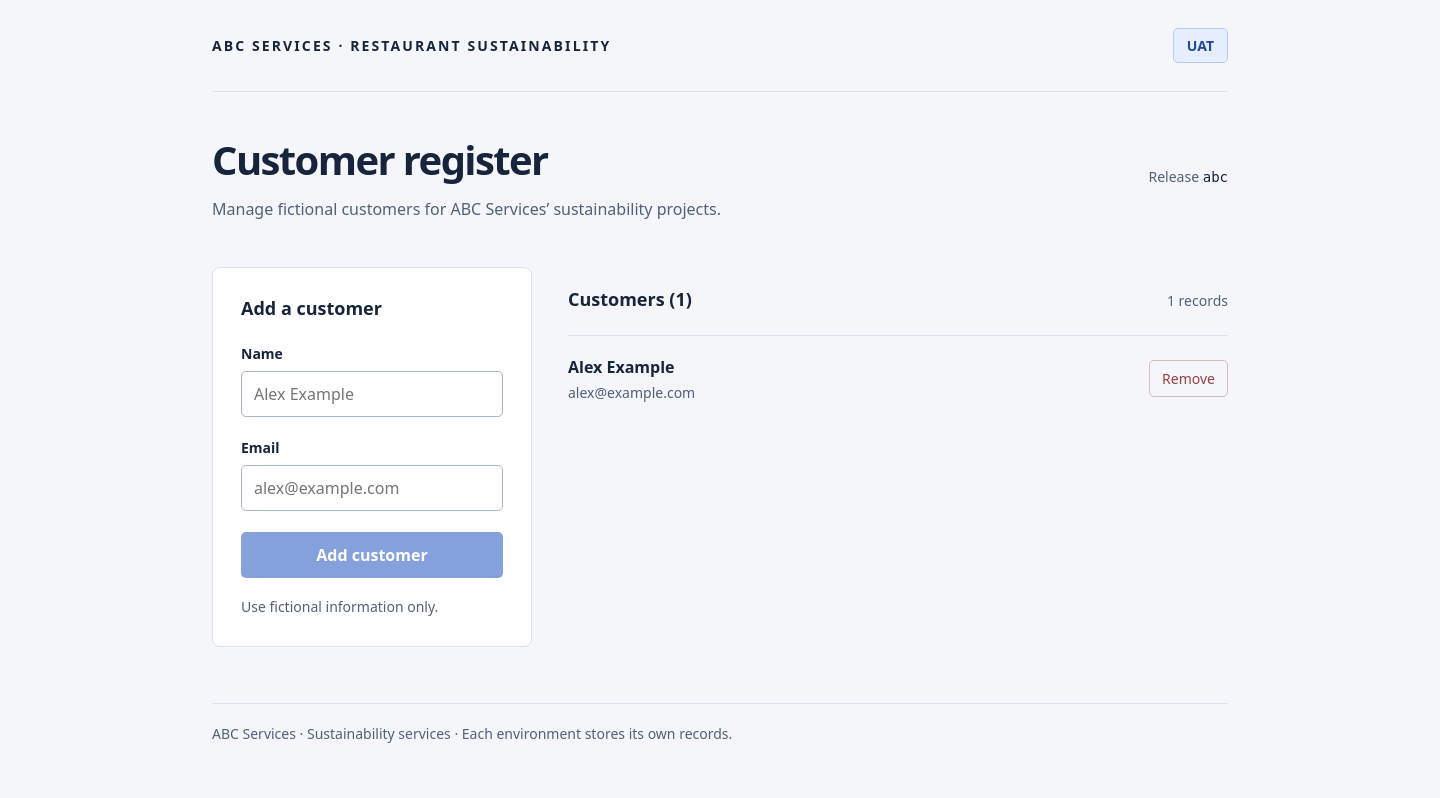
Test: keeps a record visible when deletion fails
This screenshot has width=1440, height=798.
Click the button with aria-label "Remove Alex Example" at point(1189, 379), box [1149,360,1228,397]
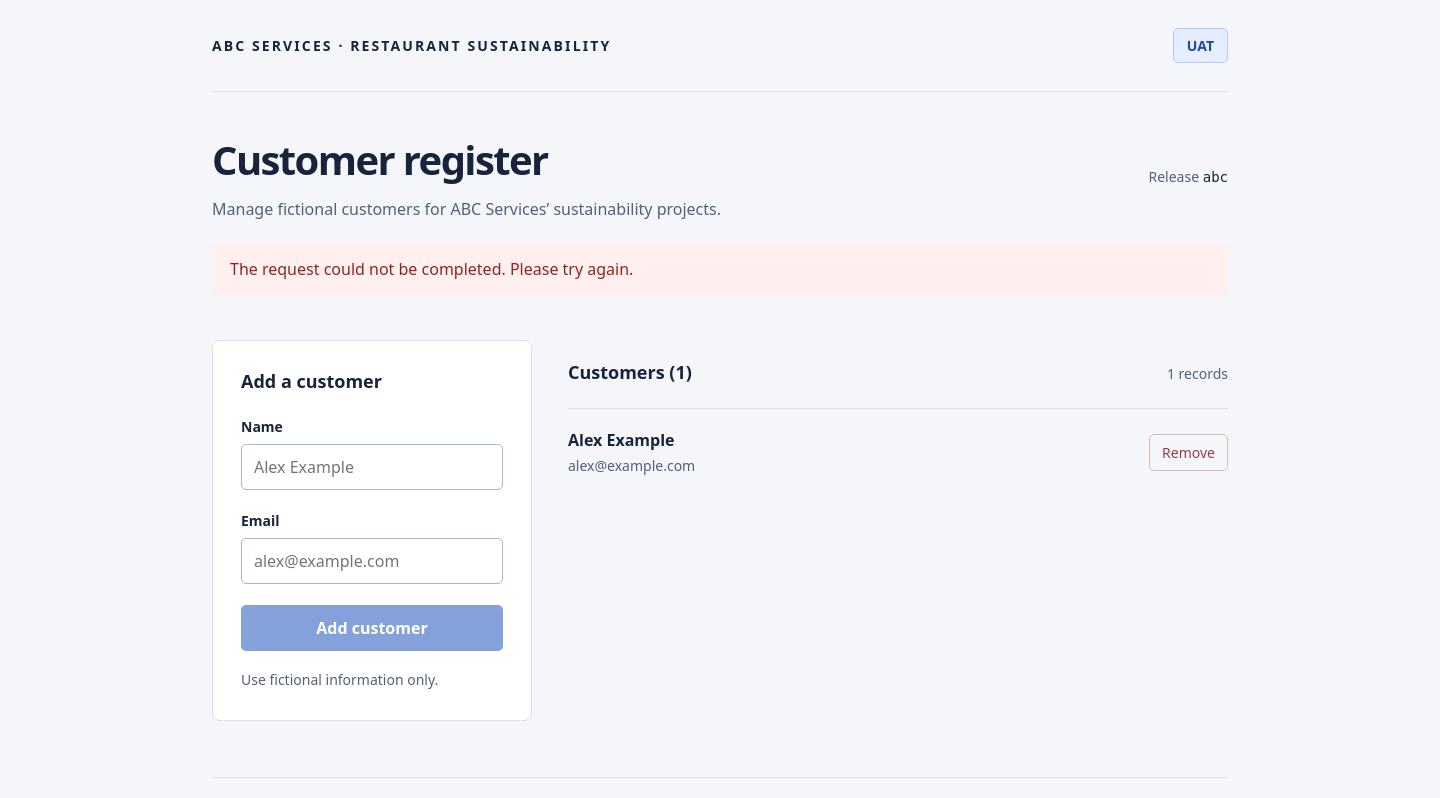
Expected: the text "Alex Example" is shown, [568,429,674,451]
Expected: the message "The request could not be completed. Please try again." is shown, [212,243,1228,296]
